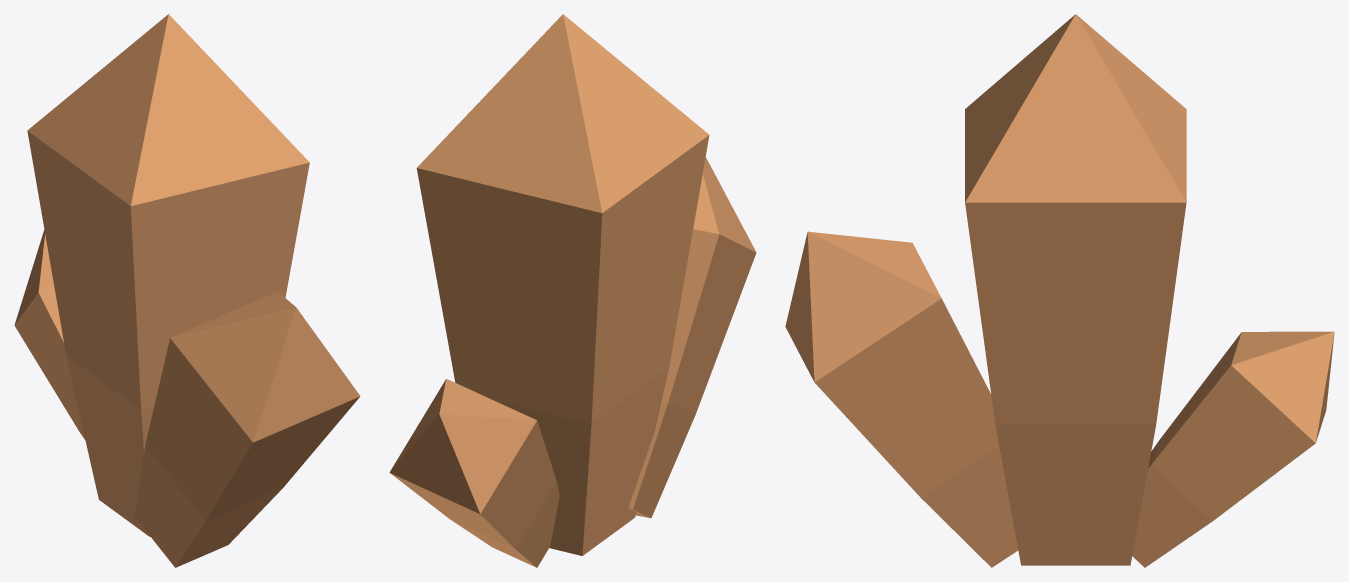
The model's file is crystalmutipleorange.fbx.
3 views of the same model, side by side, from view 1: azimuth 30°, elevation 25°; view 2: azimuth 150°, elevation 25°; view 3: azimuth 270°, elevation 25° (orthographic). The views are drawn at different scales.
Parts seen in each view (by area): view 1: Base, Base.001, Base.003; view 2: Base, Base.003, Base.001; view 3: Base, Base.001, Base.003.
Boxes of the visible parts, left/top/right/bottom form: Base: left=27, top=14, right=309, bottom=536; Base.001: left=134, top=291, right=360, bottom=567; Base.003: left=14, top=230, right=85, bottom=439; Base: left=416, top=14, right=709, bottom=555; Base.003: left=389, top=379, right=559, bottom=567; Base.001: left=628, top=157, right=756, bottom=518; Base: left=965, top=14, right=1186, bottom=565; Base.001: left=785, top=231, right=1018, bottom=567; Base.003: left=1132, top=331, right=1334, bottom=567.
Bounding box in the file's own units: 141 × 385 × 351.
